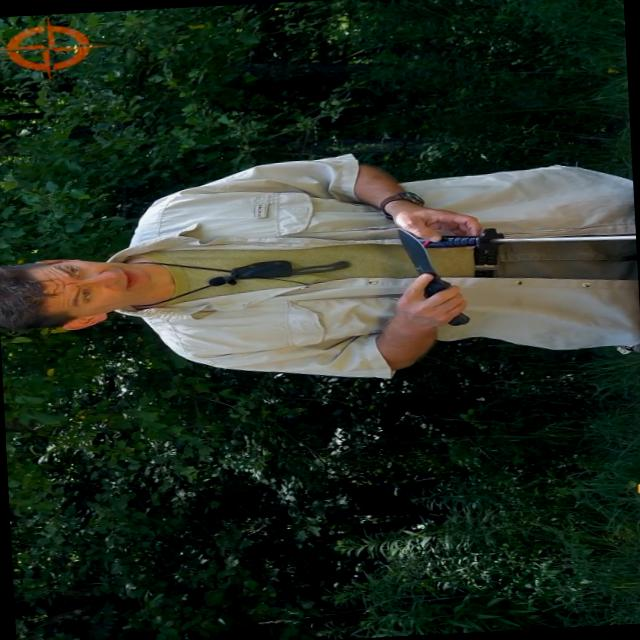knife: (382, 221, 471, 332)
